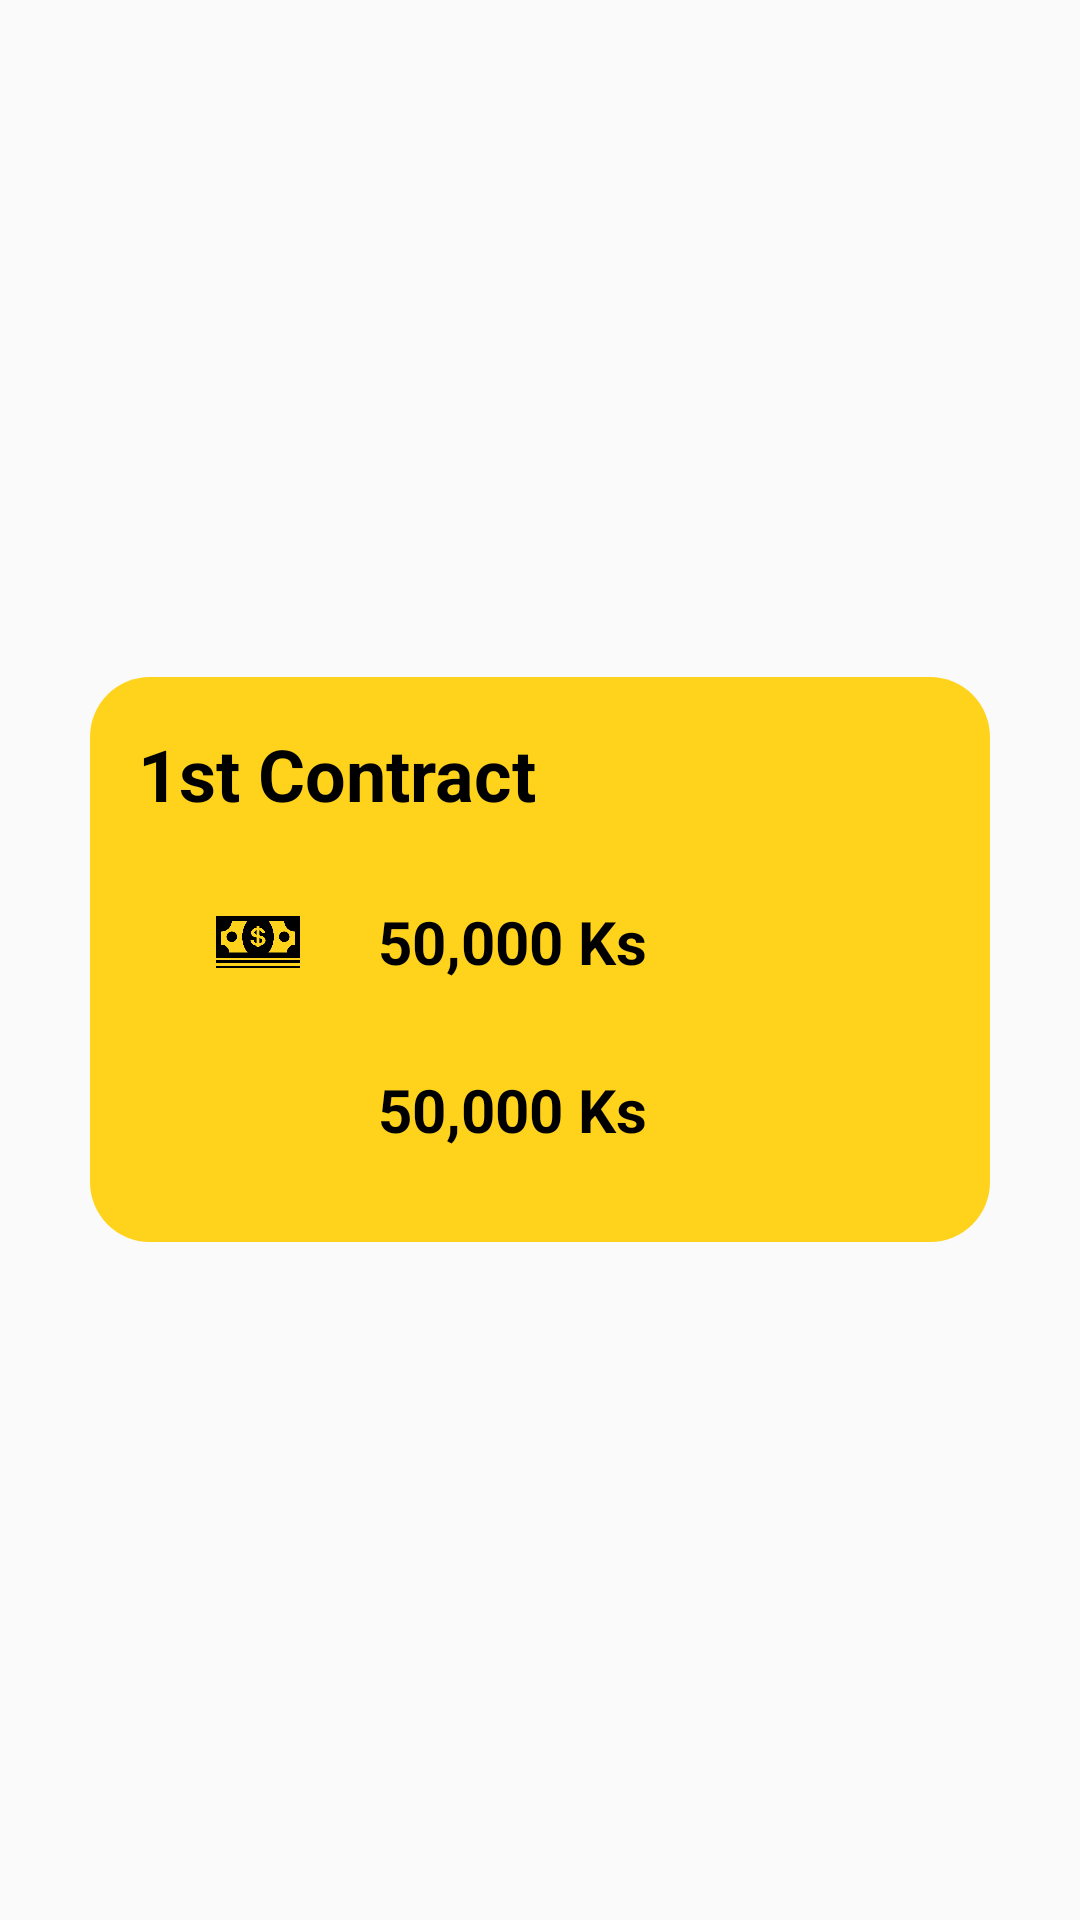

Icons on this 1080px x 1920px Android screen, each with the point to tap as [x,y]:
cash: [258,942]
